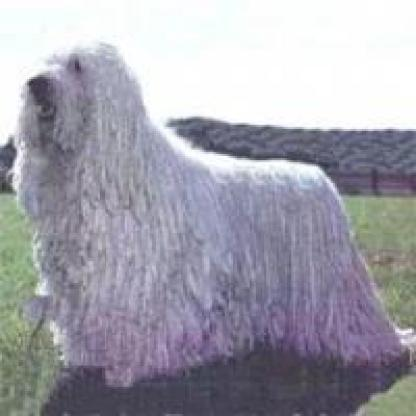komondor: (10, 31, 412, 385)
